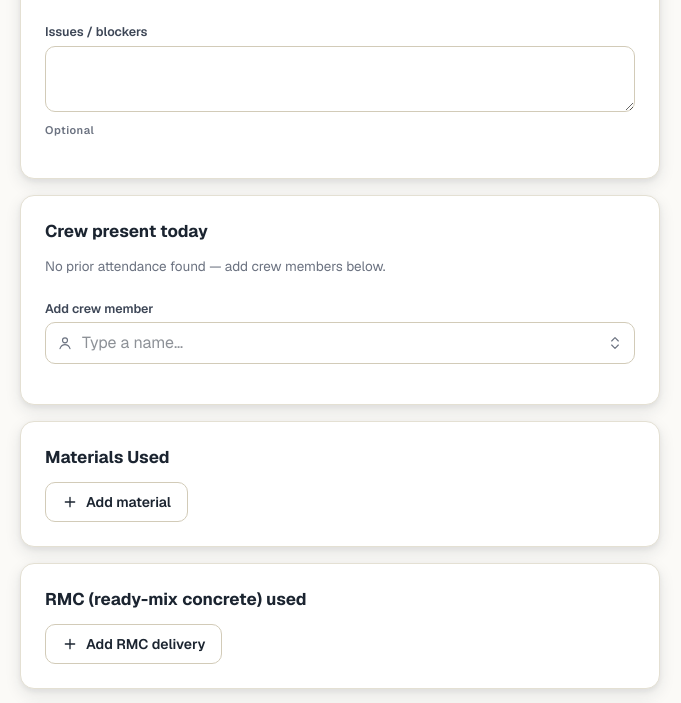
Test: NewDsrPage › adds a crew member by typing a name and selecting — never by entering an id
(page scrolled)
Type "sur" into the dropdown labelled "Add crew member" at (340, 343), box x1=45 y1=322 x2=635 y2=364
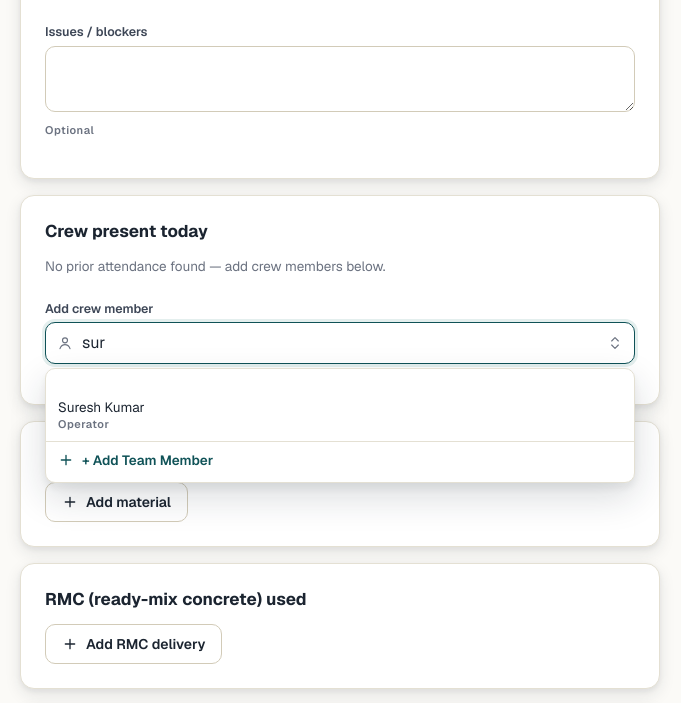
Click the text "Suresh Kumar" at (101, 407), box x1=58 y1=397 x2=145 y2=417
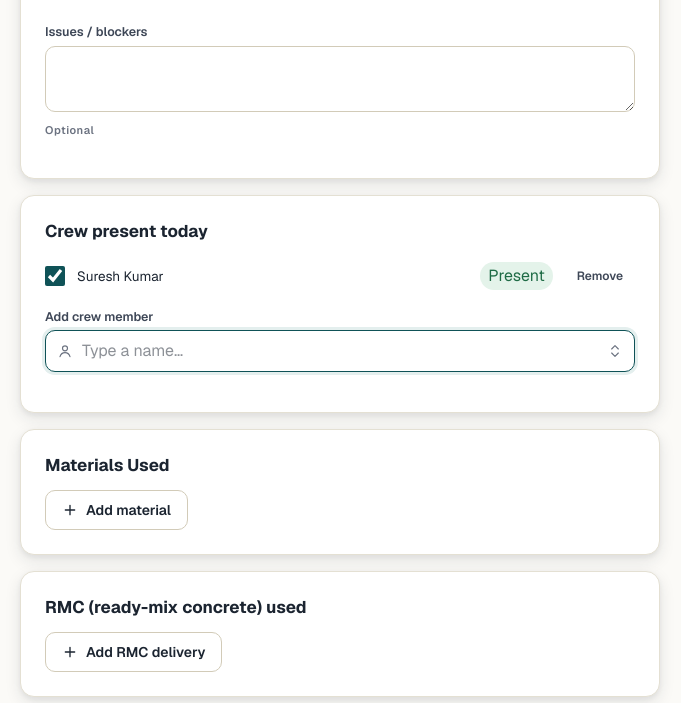
Expected: the checkbox labelled "Suresh Kumar" is checked, x1=45 y1=266 x2=65 y2=286
